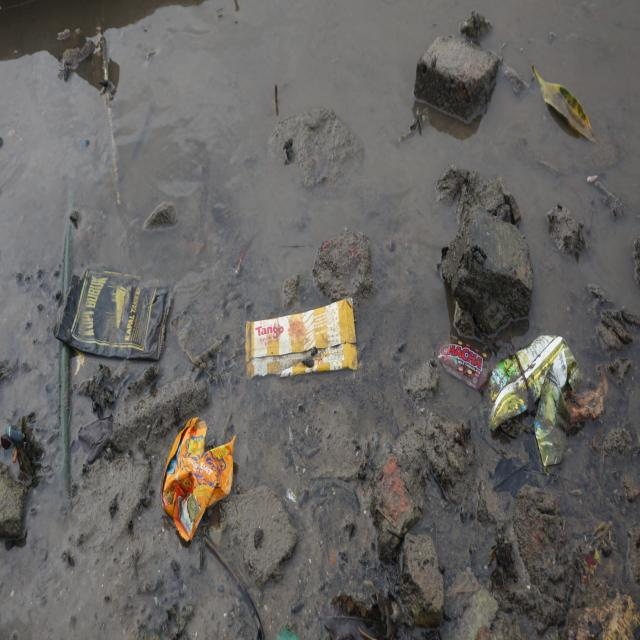Bungkus Makanan: (483, 327, 590, 475), (244, 291, 360, 379), (161, 415, 236, 546), (436, 326, 491, 394)
Bungkus Minuman: (52, 265, 173, 361)
